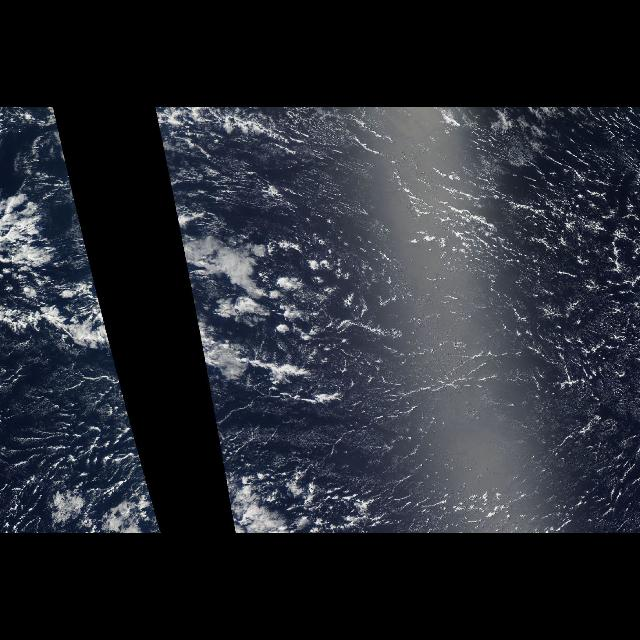Gravel: (154, 115, 636, 528), (9, 115, 161, 528)
Sugar: (190, 126, 628, 518)
